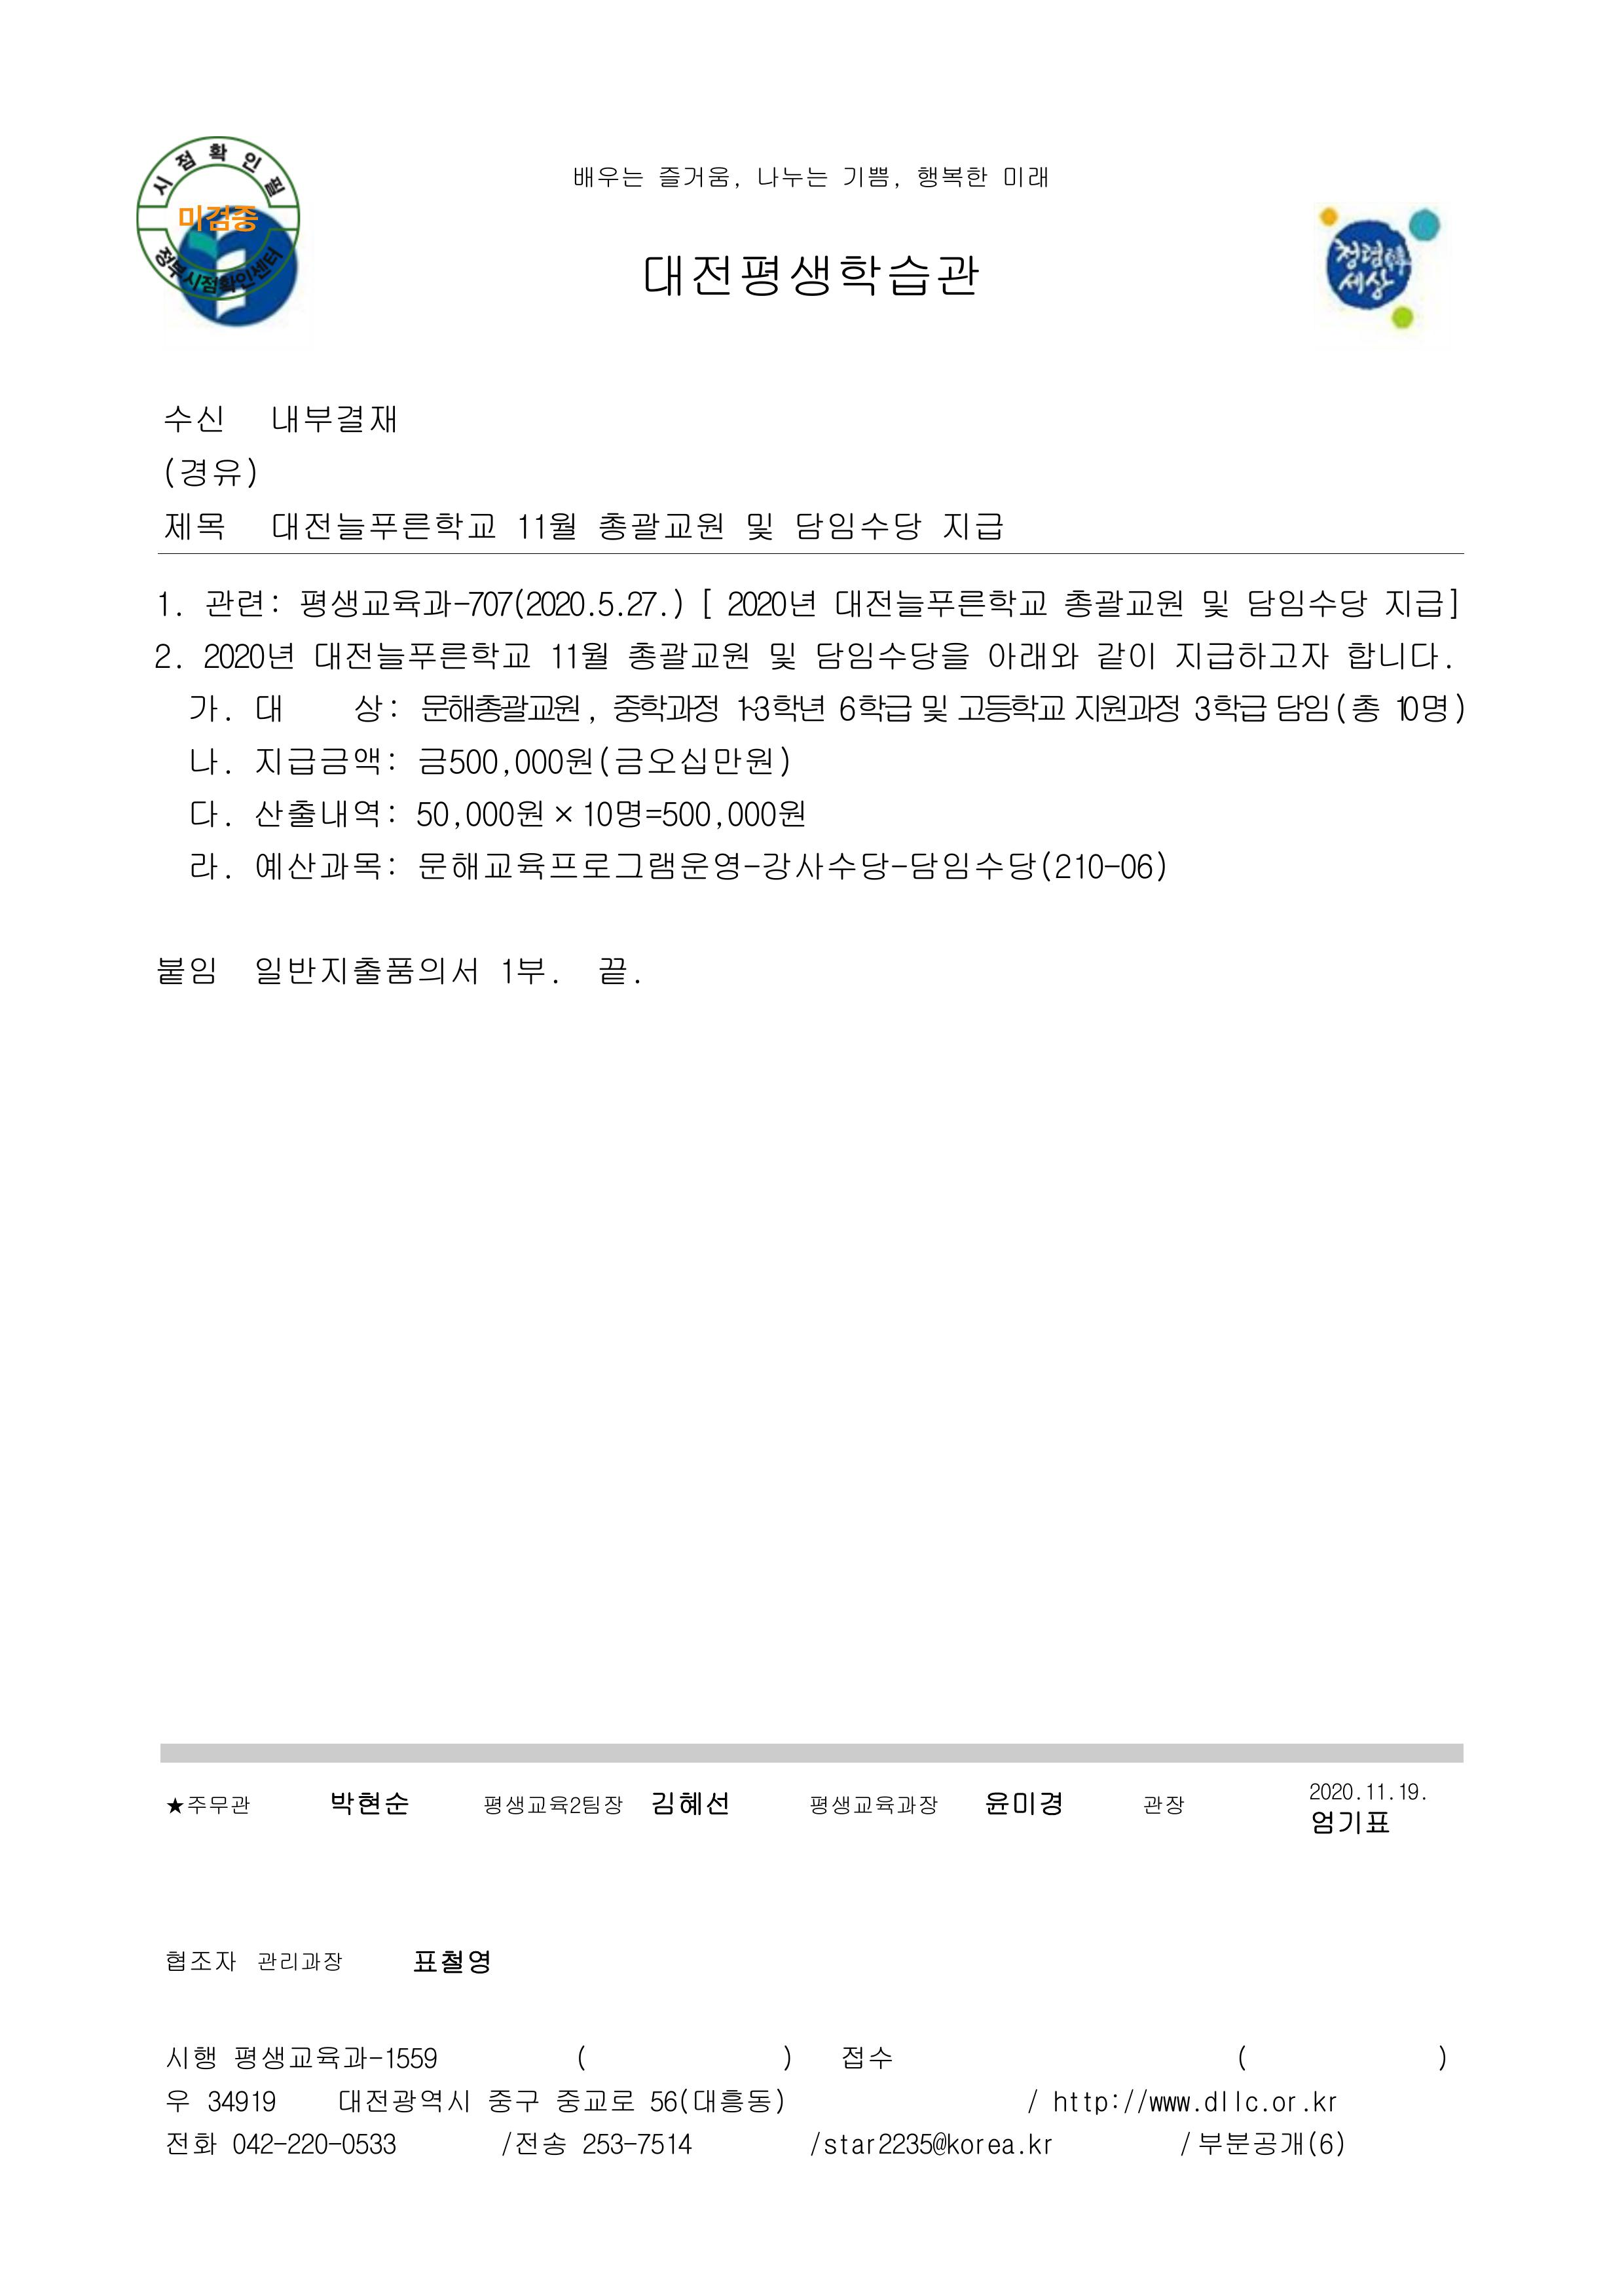t: (417, 845, 1169, 886), (642, 251, 982, 304), (297, 583, 689, 624), (835, 689, 1069, 728), (831, 583, 1048, 624), (255, 951, 480, 989), (269, 510, 501, 545), (596, 742, 793, 782), (311, 638, 531, 673), (228, 2040, 441, 2072), (807, 2126, 1014, 2158), (418, 692, 580, 731), (251, 742, 397, 782), (814, 638, 972, 673), (1172, 638, 1330, 673), (228, 2126, 397, 2158), (645, 2082, 786, 2119), (793, 506, 924, 545), (255, 796, 397, 831), (576, 796, 717, 831), (251, 849, 397, 882), (1193, 2126, 1345, 2158), (269, 401, 397, 438), (334, 2082, 473, 2116), (1244, 583, 1369, 620), (596, 510, 724, 545), (1062, 583, 1183, 620), (624, 638, 749, 673), (1072, 689, 1179, 728), (1272, 689, 1380, 728), (610, 691, 717, 728), (576, 2126, 696, 2158), (156, 455, 262, 490), (1345, 638, 1448, 673), (483, 1792, 624, 1817), (724, 583, 817, 620), (417, 742, 506, 778), (200, 638, 294, 673), (810, 1792, 939, 1817), (735, 689, 824, 724), (986, 638, 1079, 671), (176, 200, 258, 237), (1186, 691, 1269, 728), (513, 742, 596, 778), (1390, 689, 1466, 728), (204, 583, 283, 620), (1380, 583, 1459, 620), (1308, 1806, 1390, 1840), (552, 2082, 634, 2116), (462, 796, 548, 828), (724, 796, 807, 828), (649, 1785, 731, 1817), (327, 1785, 408, 1817), (1200, 2089, 1297, 2116), (204, 2082, 279, 2116), (411, 1947, 490, 1979), (935, 510, 1004, 545), (1093, 638, 1158, 673), (566, 162, 645, 190), (656, 162, 735, 190), (752, 162, 831, 190), (513, 510, 576, 545), (982, 1789, 1062, 1817), (162, 401, 227, 434), (548, 638, 610, 673), (156, 954, 218, 989), (914, 162, 990, 190), (169, 1792, 255, 1817), (258, 1951, 344, 1975), (162, 510, 227, 541), (494, 2130, 566, 2158), (483, 2082, 541, 2116), (499, 954, 552, 989), (835, 162, 893, 193), (352, 691, 401, 728), (165, 1951, 239, 1975), (1055, 2089, 1123, 2116), (838, 2040, 893, 2072), (186, 845, 232, 882), (411, 796, 455, 831), (1338, 239, 1383, 272), (186, 742, 227, 778), (165, 2044, 218, 2072), (1137, 2089, 1193, 2116), (186, 689, 227, 724), (165, 2133, 221, 2158), (186, 796, 227, 828), (1000, 165, 1051, 190), (596, 954, 631, 989), (742, 510, 773, 545), (1197, 589, 1230, 620), (251, 691, 283, 724), (766, 638, 796, 673), (1308, 1782, 1355, 1803), (1144, 1796, 1183, 1817), (155, 641, 179, 673), (1025, 2133, 1055, 2158), (552, 803, 580, 828), (1396, 1782, 1424, 1803), (1313, 2095, 1341, 2116), (1362, 1782, 1387, 1803), (156, 590, 176, 617), (169, 2089, 190, 2112)
